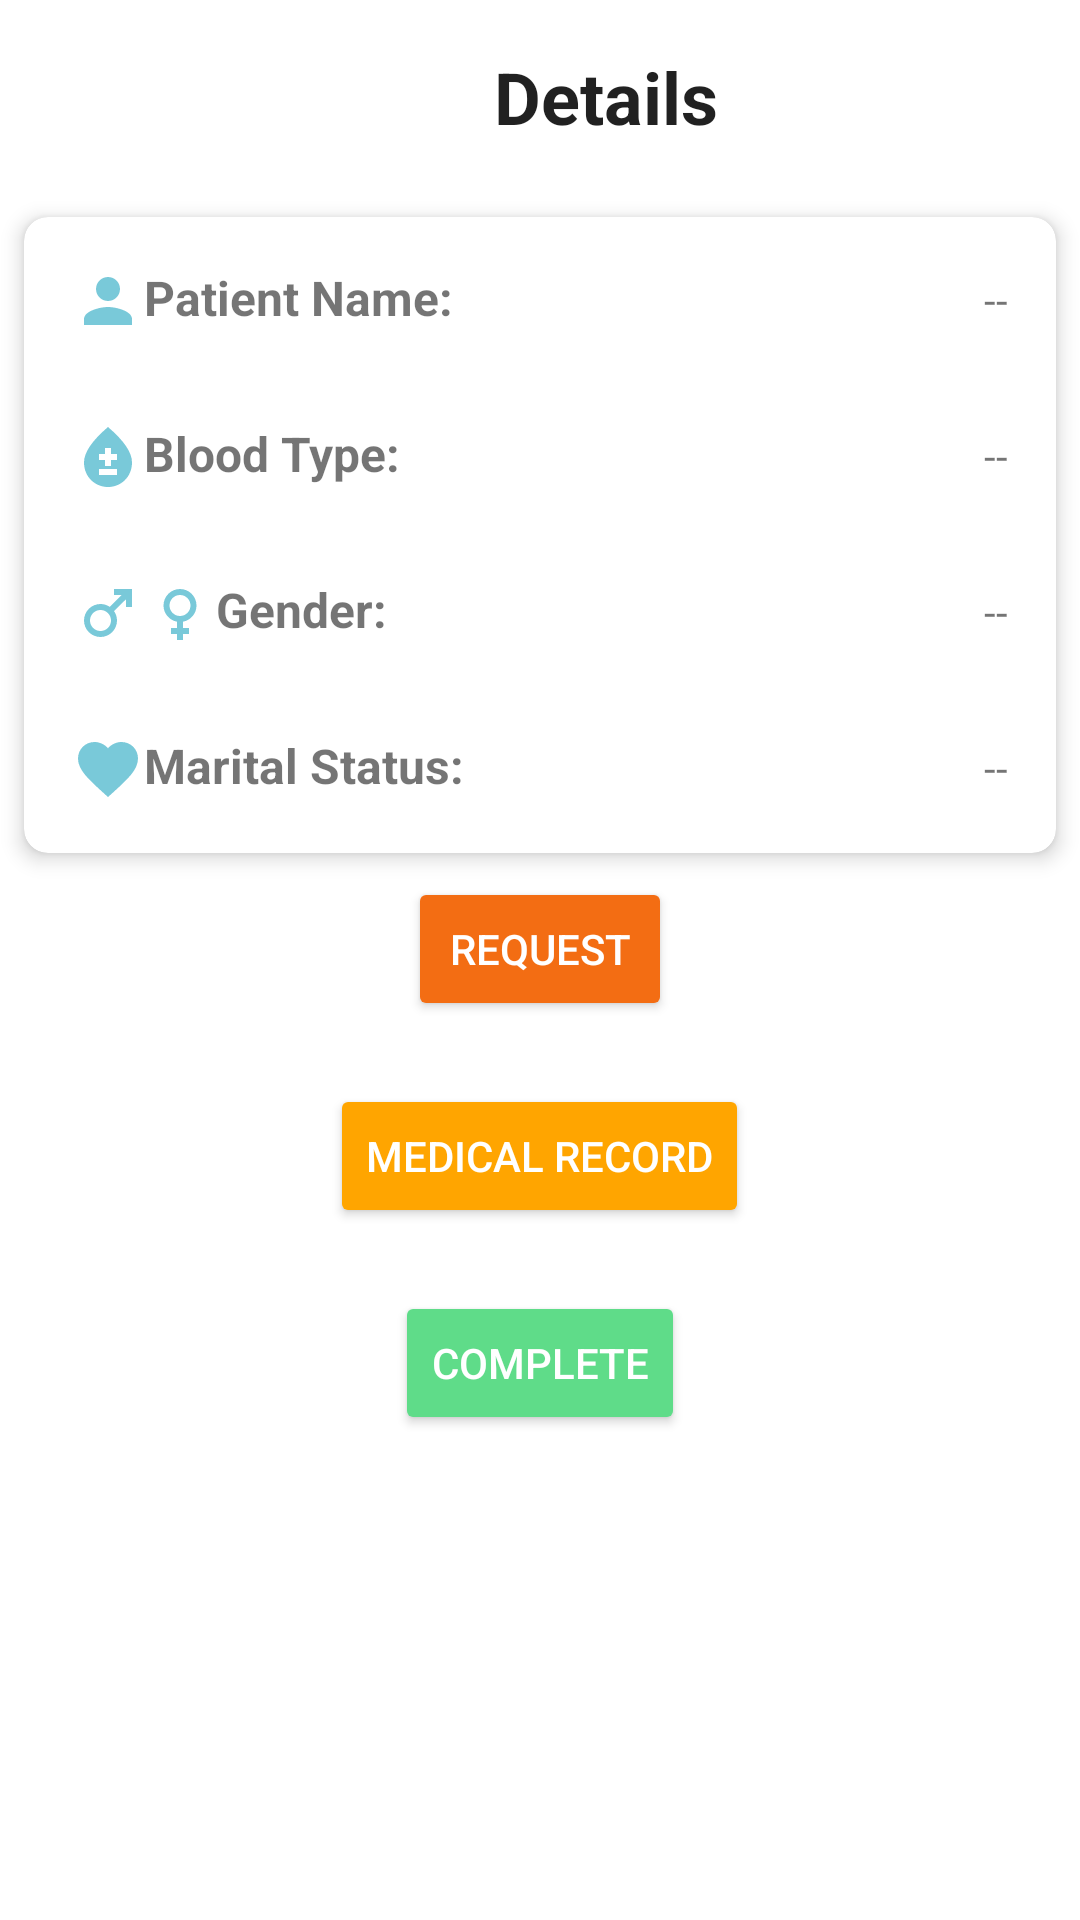

Icon click points for this 1080px×1920px phone screenshot, format point (x, y):
Female Icon: point (180, 614)
Male Icon: point (108, 613)
Person Icon: point (108, 301)
